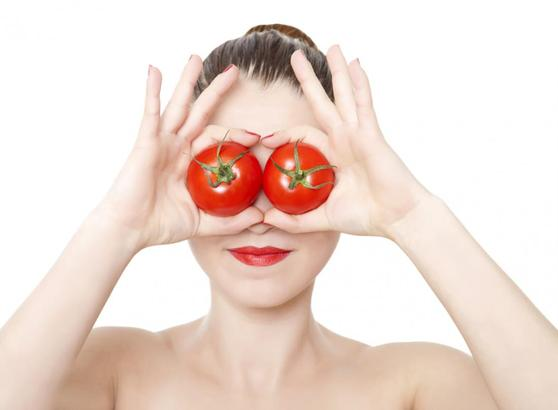tomato: (183, 140, 265, 222), (266, 137, 335, 214)
